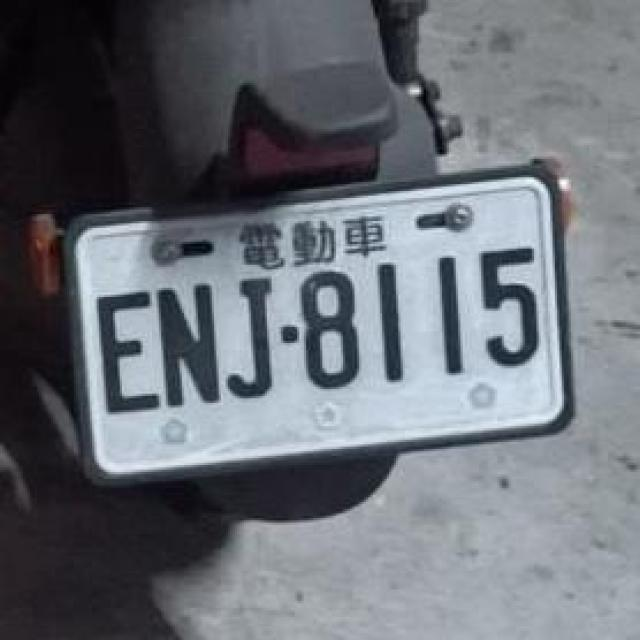W: (54, 166, 581, 490)
